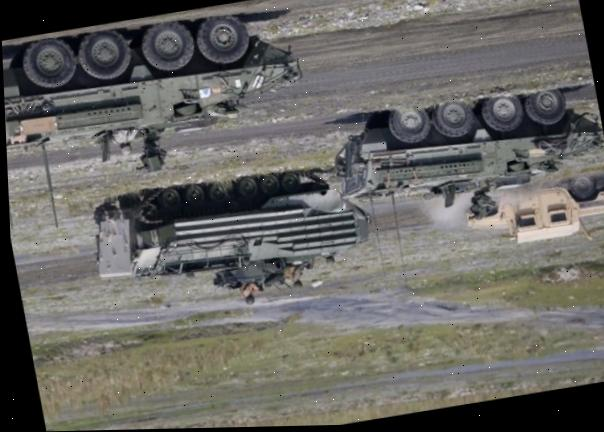armored_car: (0, 0, 313, 172), (84, 155, 381, 314), (322, 76, 604, 223), (459, 170, 604, 251)
